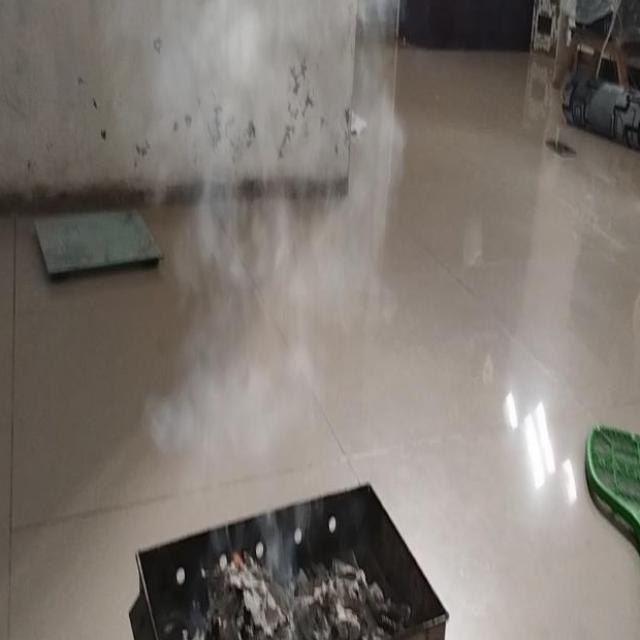fire: (140, 0, 409, 457)
